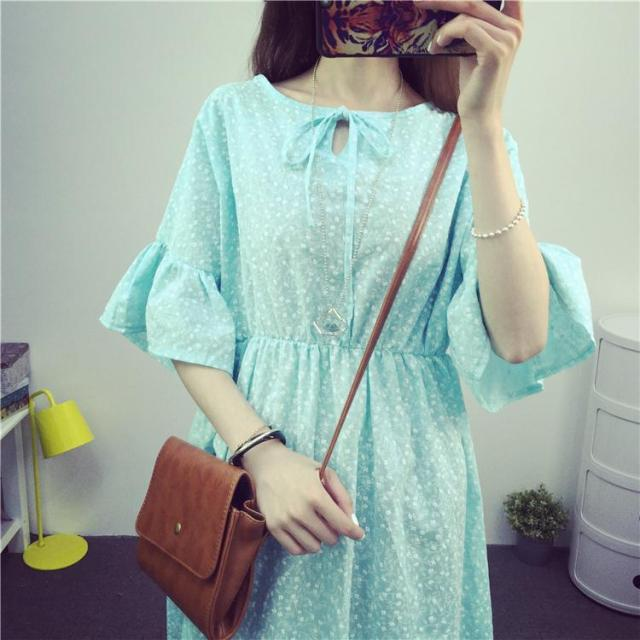short-sleeve-dress: (114, 46, 577, 622)
